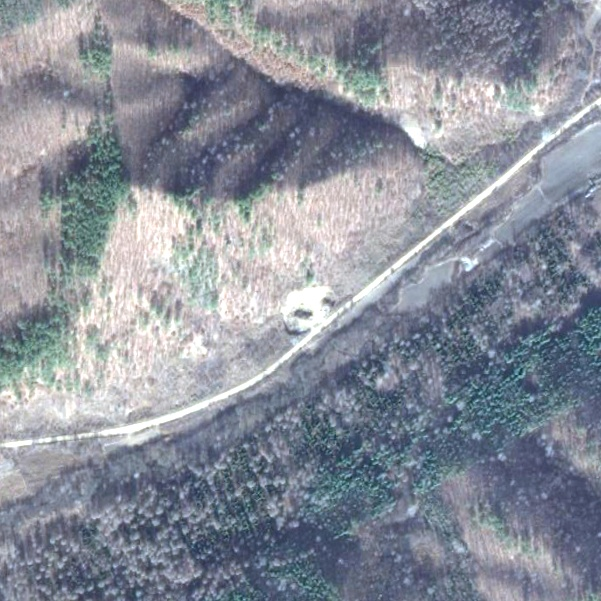slope: (276, 275, 338, 340)
